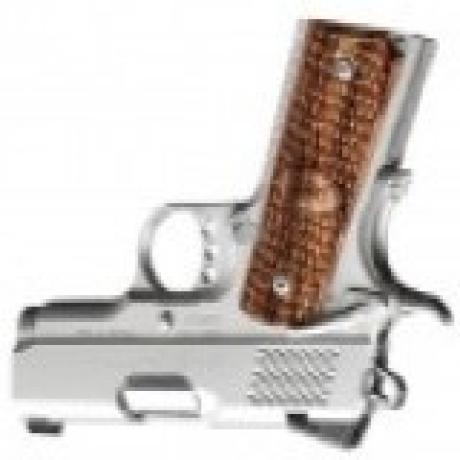weapon: (7, 29, 430, 444)
